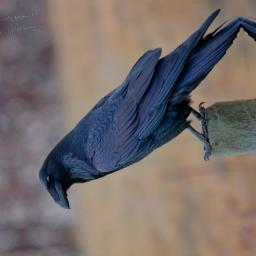Crow: (14, 6, 256, 215)
